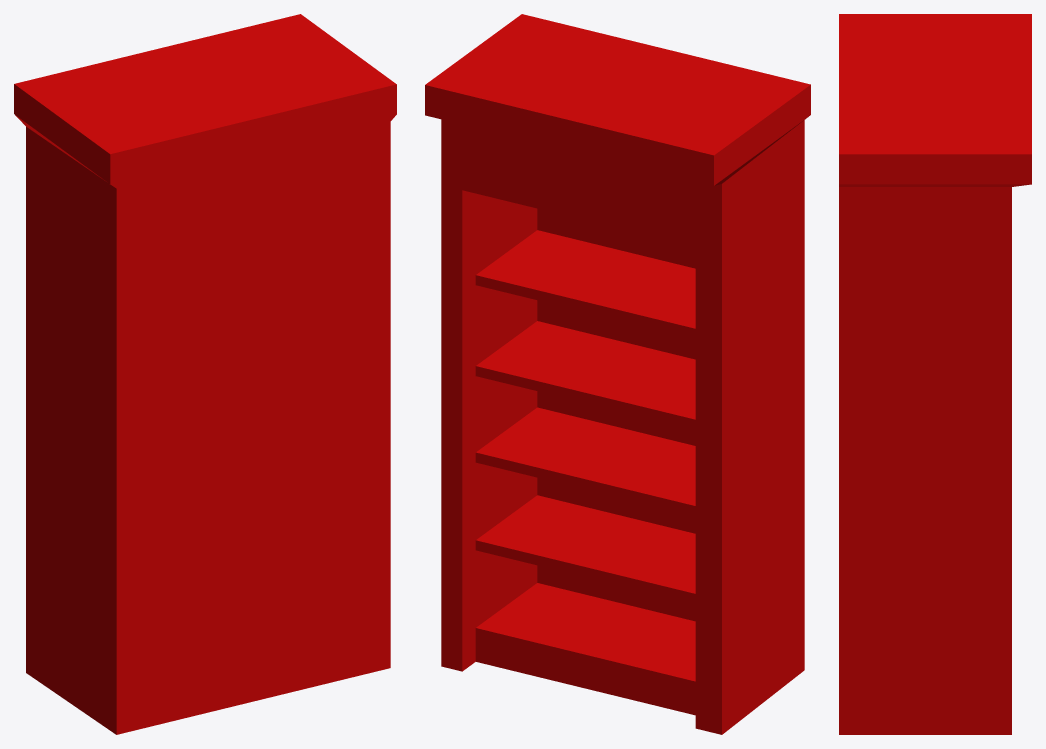
File: Attic_BookShelf_01_LP.glb
3 renders of one model, left to right at view 1: azimuth 30°, elevation 25°; view 2: azimuth 150°, elevation 25°; view 3: azimuth 270°, elevation 25°, orthographic.
Visible parts, largest first — view 1: Attic_BookShelf_01_LP; view 2: Attic_BookShelf_01_LP; view 3: Attic_BookShelf_01_LP.
Part boxes in pixels (box(x1,y1,x2,y2)): Attic_BookShelf_01_LP: box(14, 14, 396, 734); Attic_BookShelf_01_LP: box(425, 14, 810, 734); Attic_BookShelf_01_LP: box(839, 14, 1031, 734).
Bounding box in the file's own units: 1.51 × 2.93 × 0.8756.
